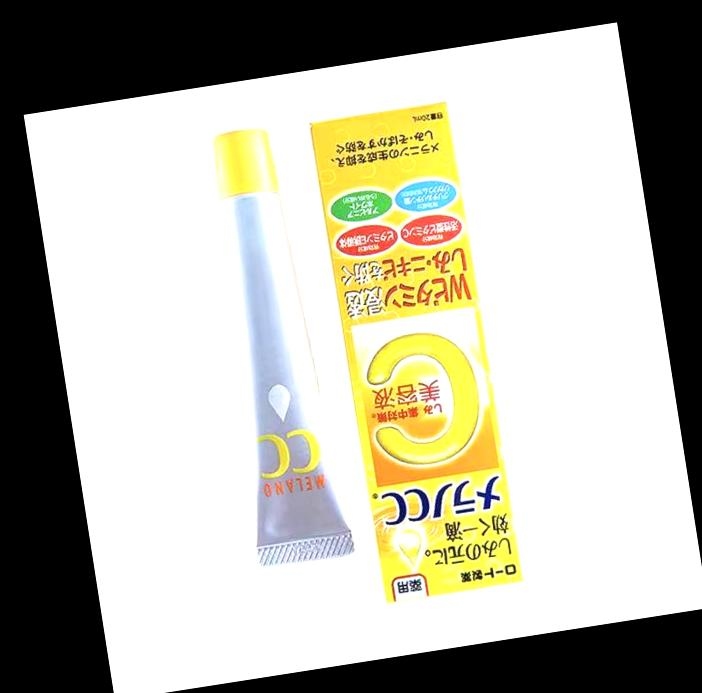cosmetic: (192, 122, 360, 568)
